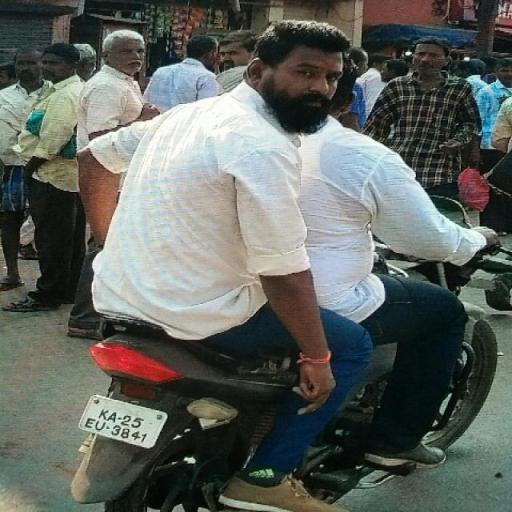bike: (48, 10, 502, 512)
numberplate: (79, 390, 165, 452)
withouthelmet: (242, 10, 351, 126)
